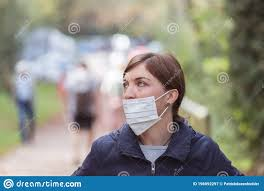mask_weared_incorrect: (119, 76, 163, 126)
